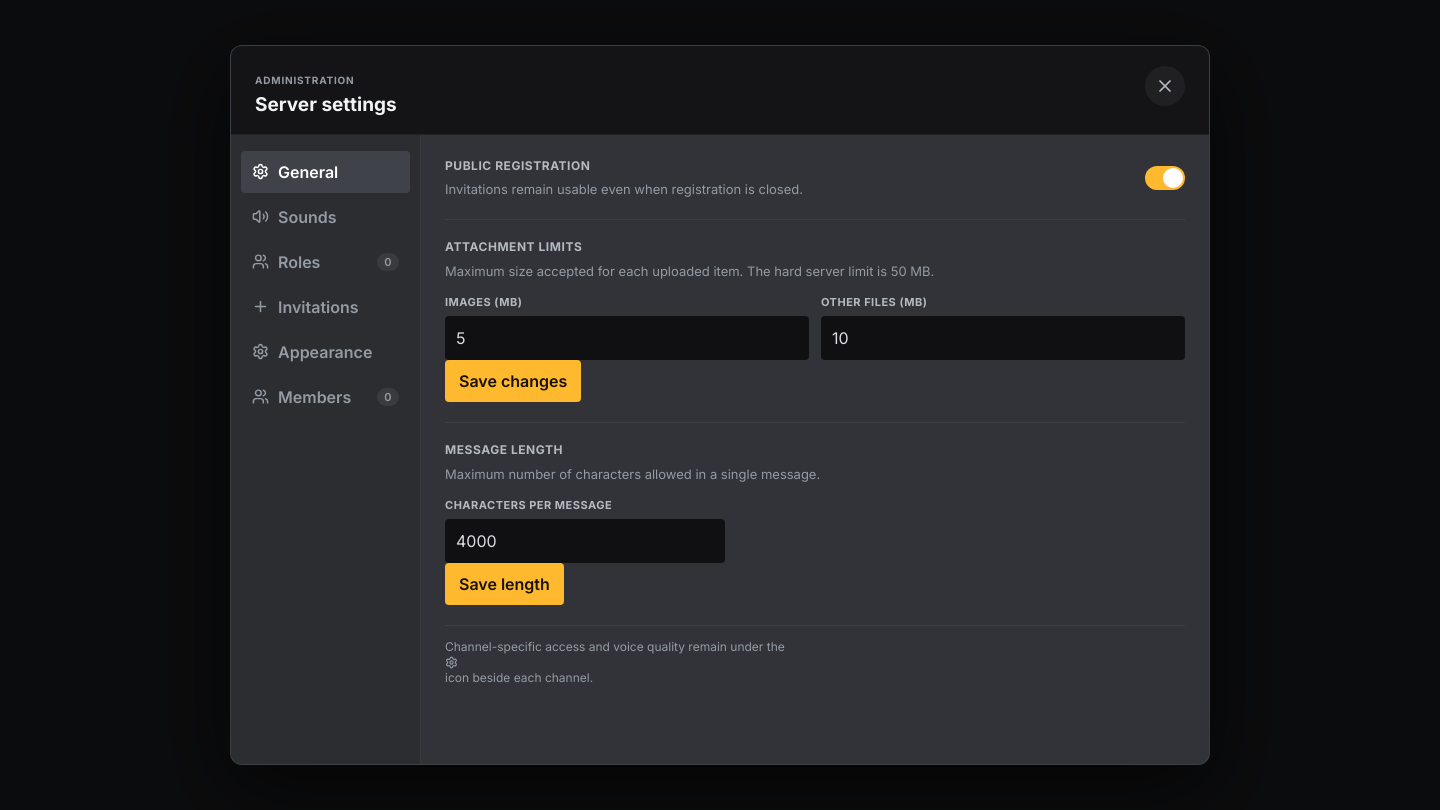
Scenario: AdminPanel moderation › bans a user and reflects the badge
The image size is (1440, 810).
Click the button "Members 0". click: x=326, y=397
box: [241,376,410,418]
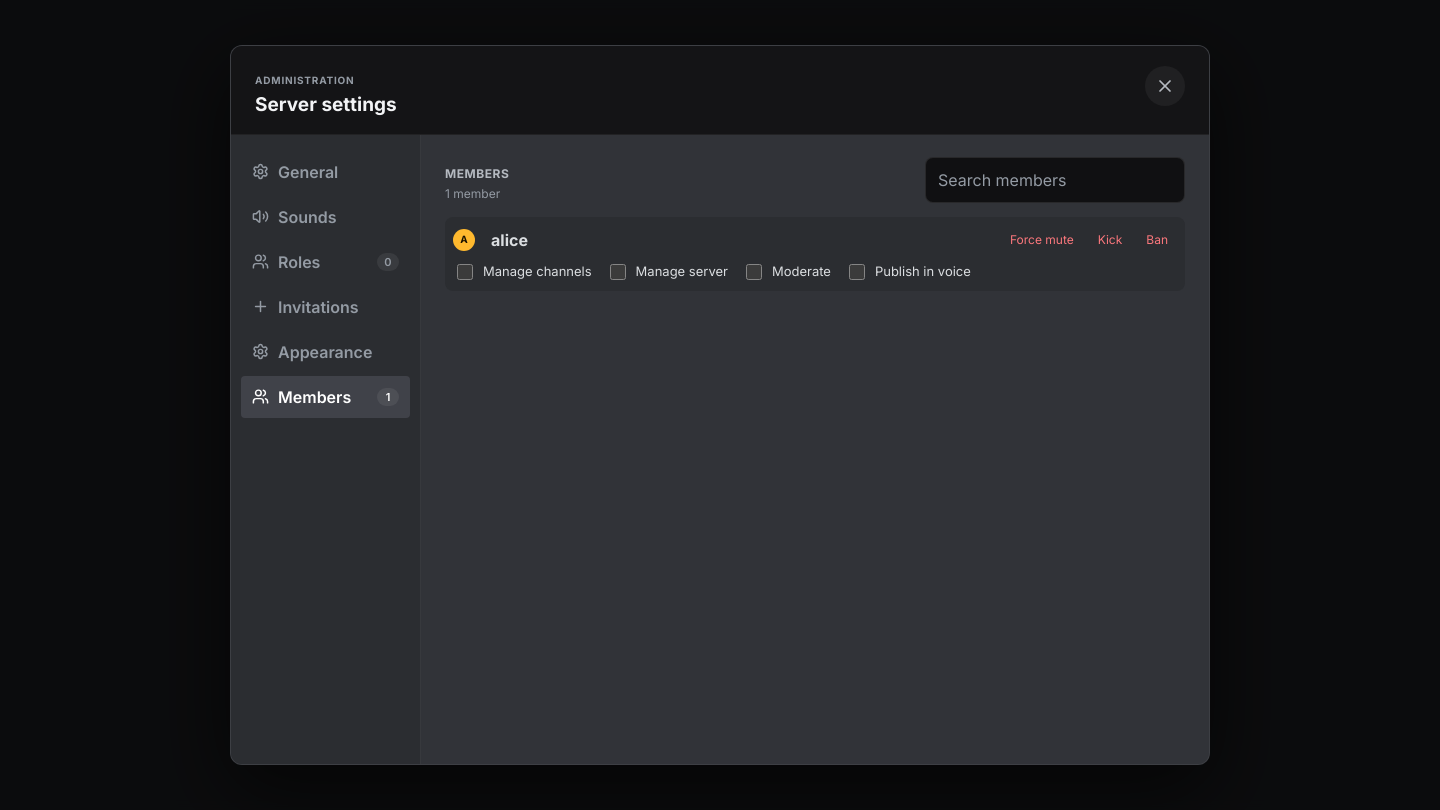
Click the button "Ban". click: x=1157, y=240
box: [1137,225,1177,255]
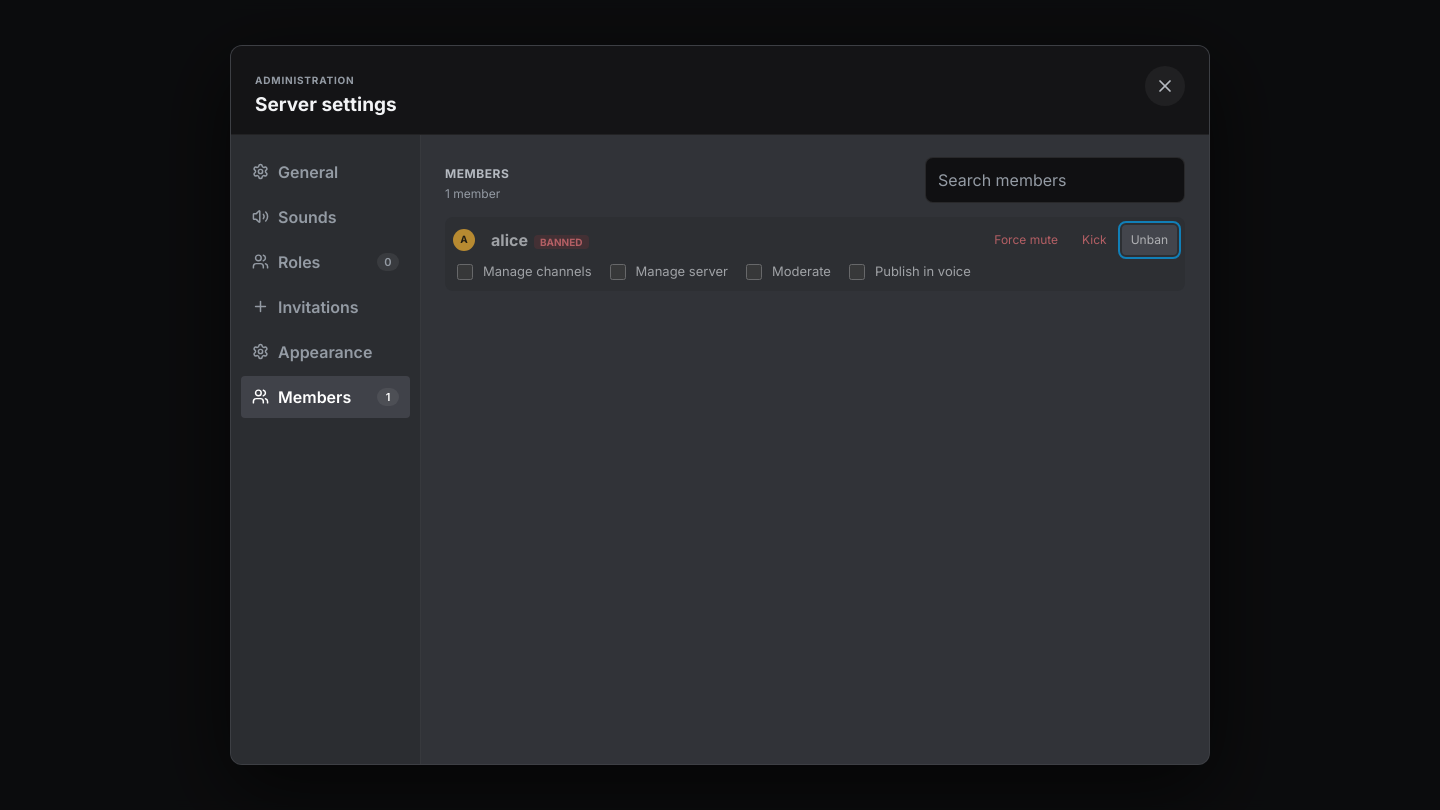
Result: the text "Banned" is shown at [534,235,588,249]
Result: the button "Unban" is shown at [1122,225,1177,255]
